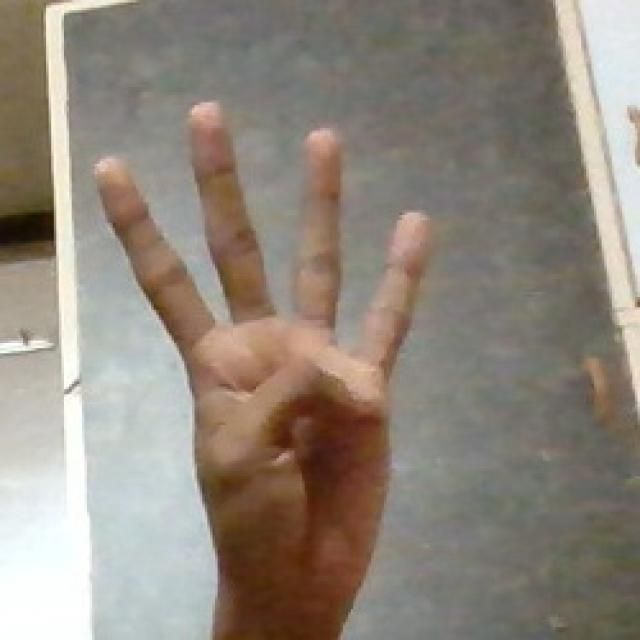Numeric-4: (86, 97, 435, 605)
